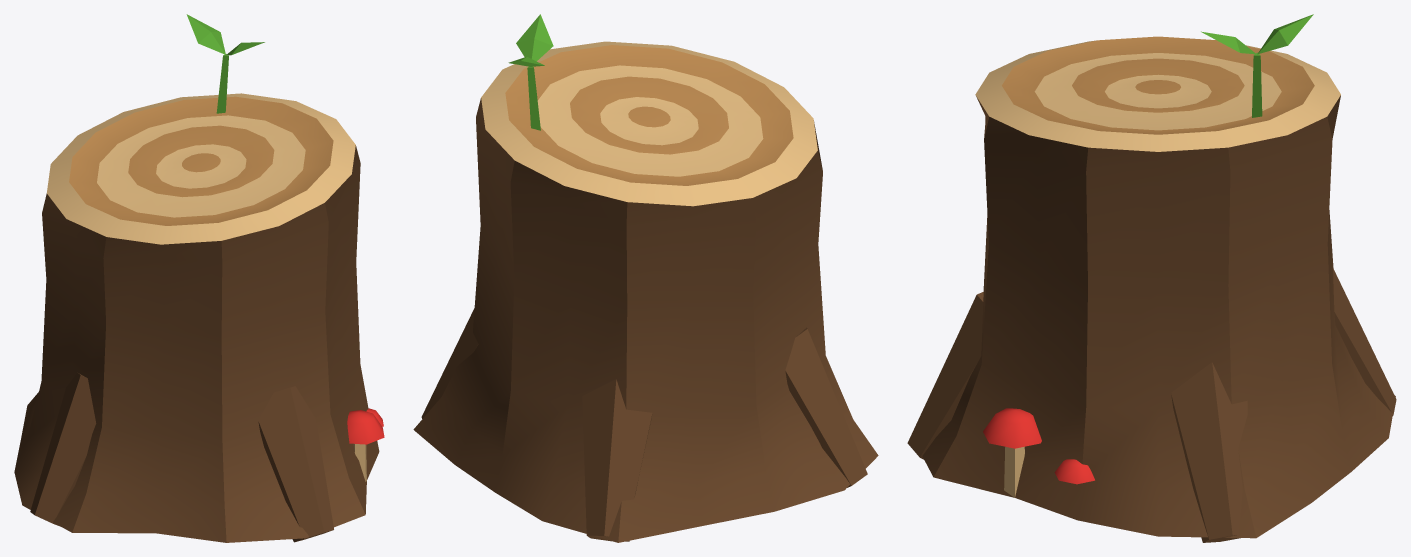
Rendered from tree_stump.glb.
3 renders of one model, left to right at view 1: azimuth 30°, elevation 25°; view 2: azimuth 150°, elevation 25°; view 3: azimuth 270°, elevation 25°, orthographic. The views are drawn at different scales.
Parts seen in each view (by area): view 1: tree_stump; view 2: tree_stump; view 3: tree_stump.
Boxes of the visible parts, left/top/right/bottom form: tree_stump: left=14, top=14, right=384, bottom=542; tree_stump: left=413, top=14, right=878, bottom=542; tree_stump: left=907, top=14, right=1396, bottom=542.
Size of the model in its own units: 0.5937 by 0.6331 by 0.5936.
